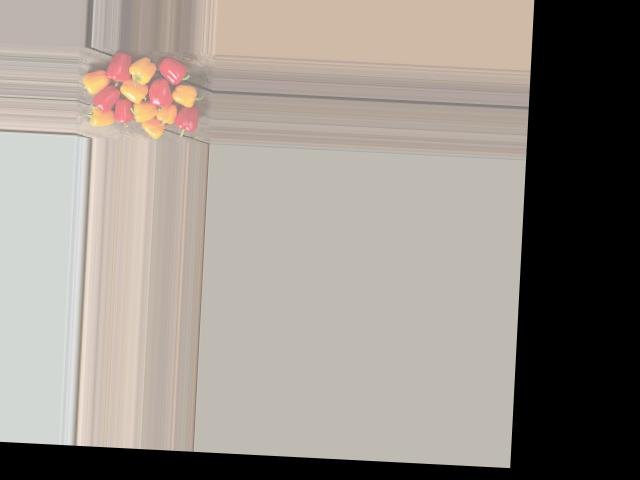bell_pepper: (81, 64, 117, 95)
